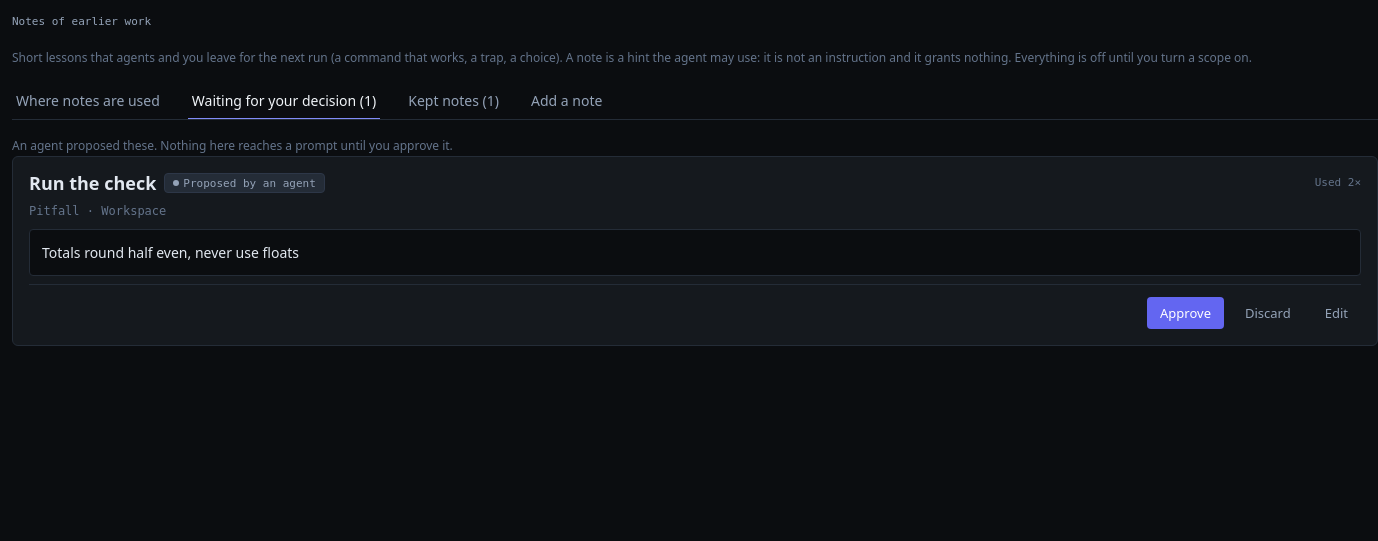
Scenario: MemorySettings › lists what waits for a decision apart, and approving or discarding acts on it
Expected: the text "Run the check" is shown, 29,173 -> 156,193
Expected: the text "Proposed by an agent" is shown, 164,173 -> 325,193
What coordinates should you click on to do the following:
click the button "Approve"
I would click on:
 (1186, 313)
Its box is 1147,297 -> 1224,329.
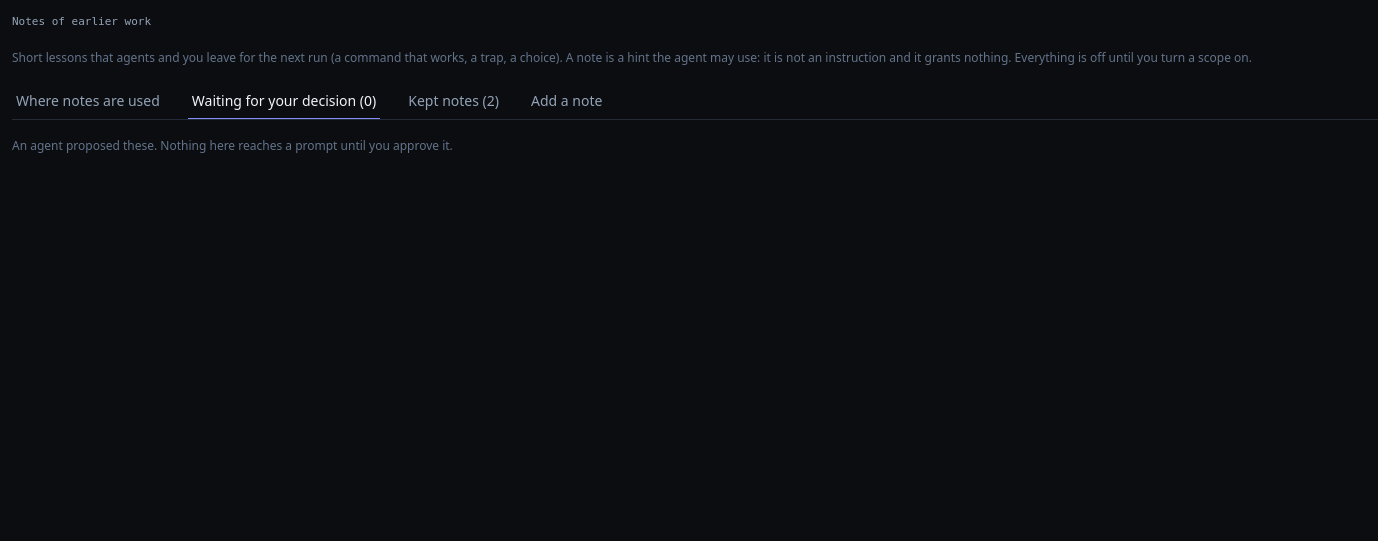
Expected: the text "Run the check" is gone
What coordinates should you click on to do the following:
click the tab "Kept notes (2)"
I would click on:
 (454, 102)
Its box is 404,84 -> 503,120.
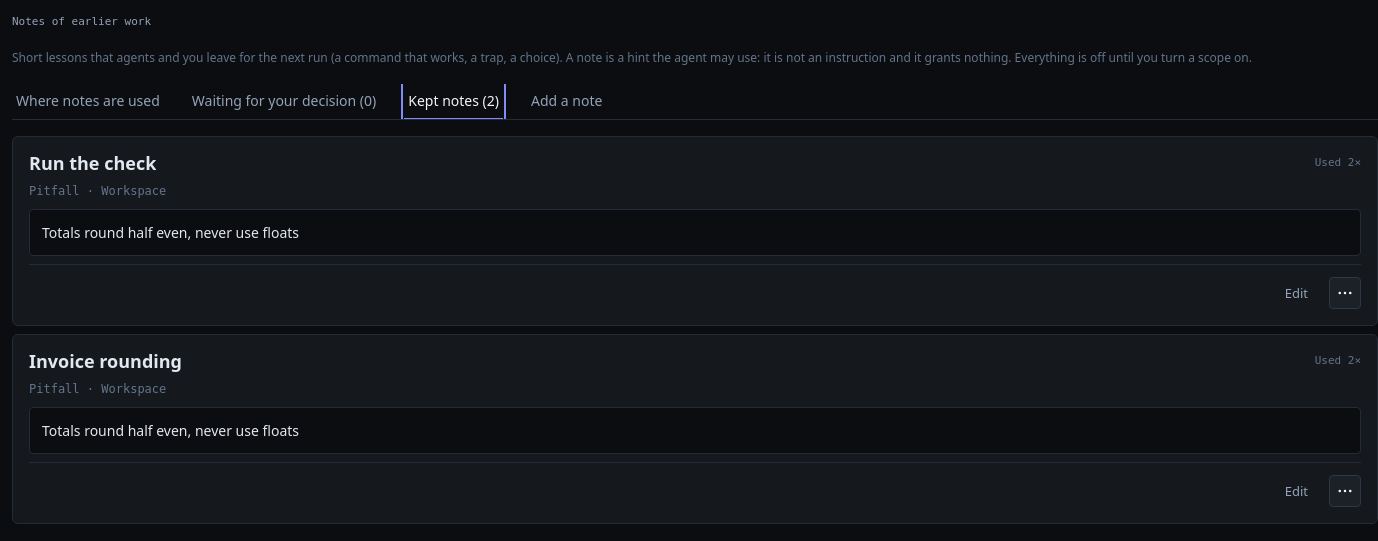
Expected: the text "Run the check" is shown, 29,153 -> 156,173
